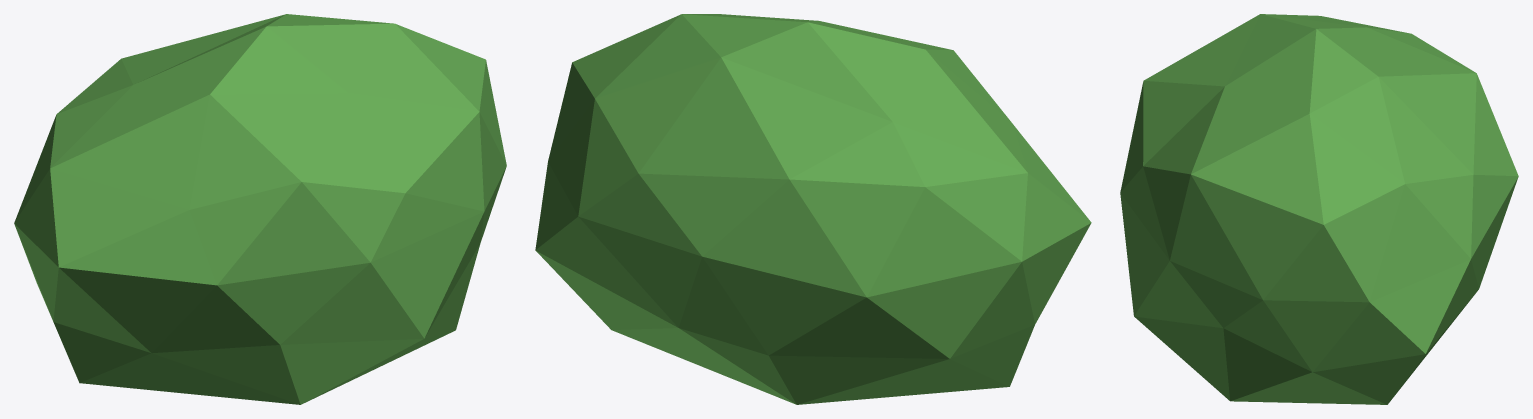
Rendered from bush_03.glb.
The picture shows the model from 3 angles, left to right: view 1: azimuth 30°, elevation 25°; view 2: azimuth 150°, elevation 25°; view 3: azimuth 270°, elevation 25°; orthographic projection. The views are drawn at different scales.
Visible parts, largest first — view 1: Object_74; view 2: Object_74; view 3: Object_74.
Part boxes in pixels (left/top/right/bottom): Object_74: left=14, top=14, right=506, bottom=404; Object_74: left=535, top=14, right=1091, bottom=404; Object_74: left=1120, top=14, right=1518, bottom=404.
Size of the model in its own units: 2.7 by 1.71 by 2.04.
